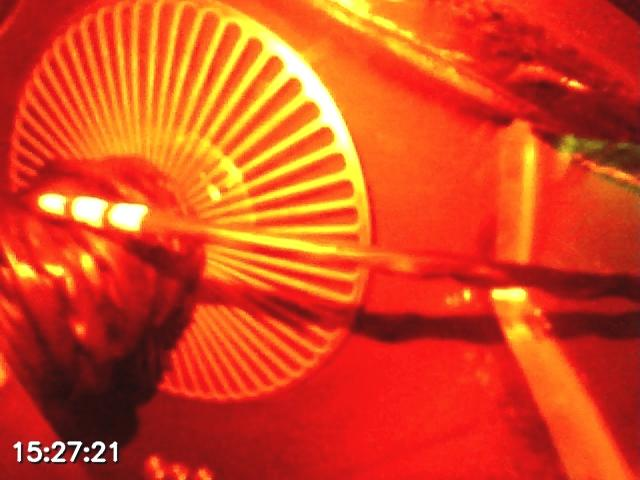white-dots: (37, 192, 150, 232)
